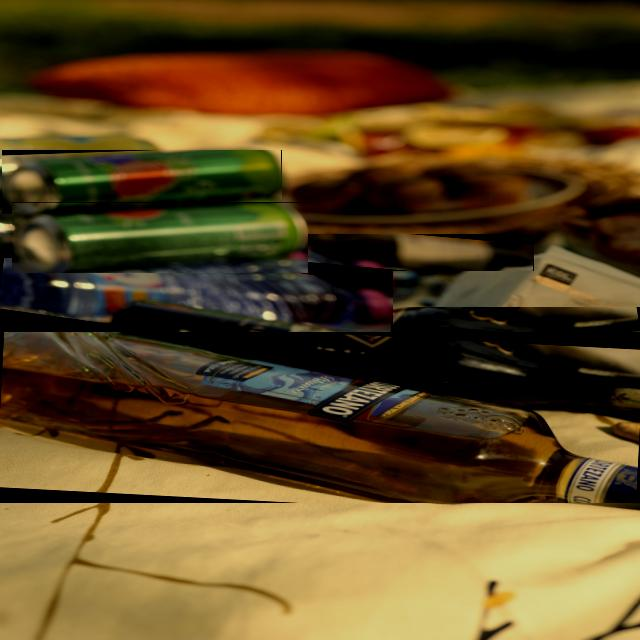Bottle: (0, 332, 639, 503), (117, 308, 639, 395), (0, 259, 393, 335), (13, 202, 307, 273), (3, 151, 282, 213), (309, 234, 534, 271)
